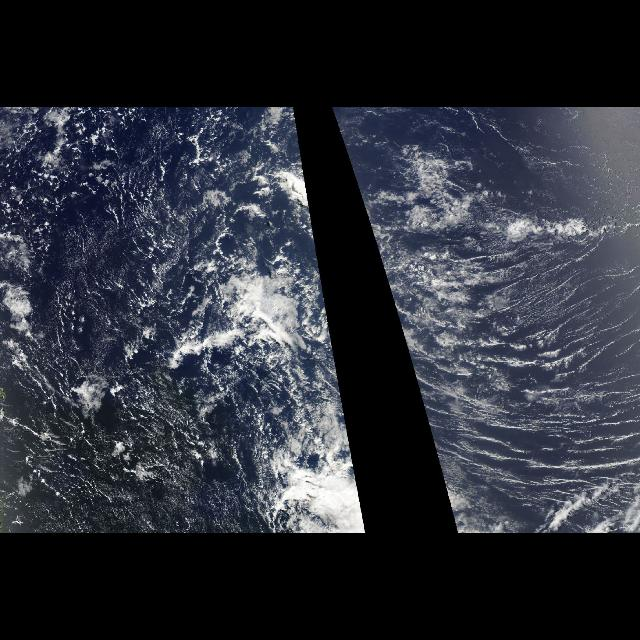Gravel: (2, 109, 284, 525)
Sugar: (414, 123, 640, 529), (62, 223, 164, 531)
